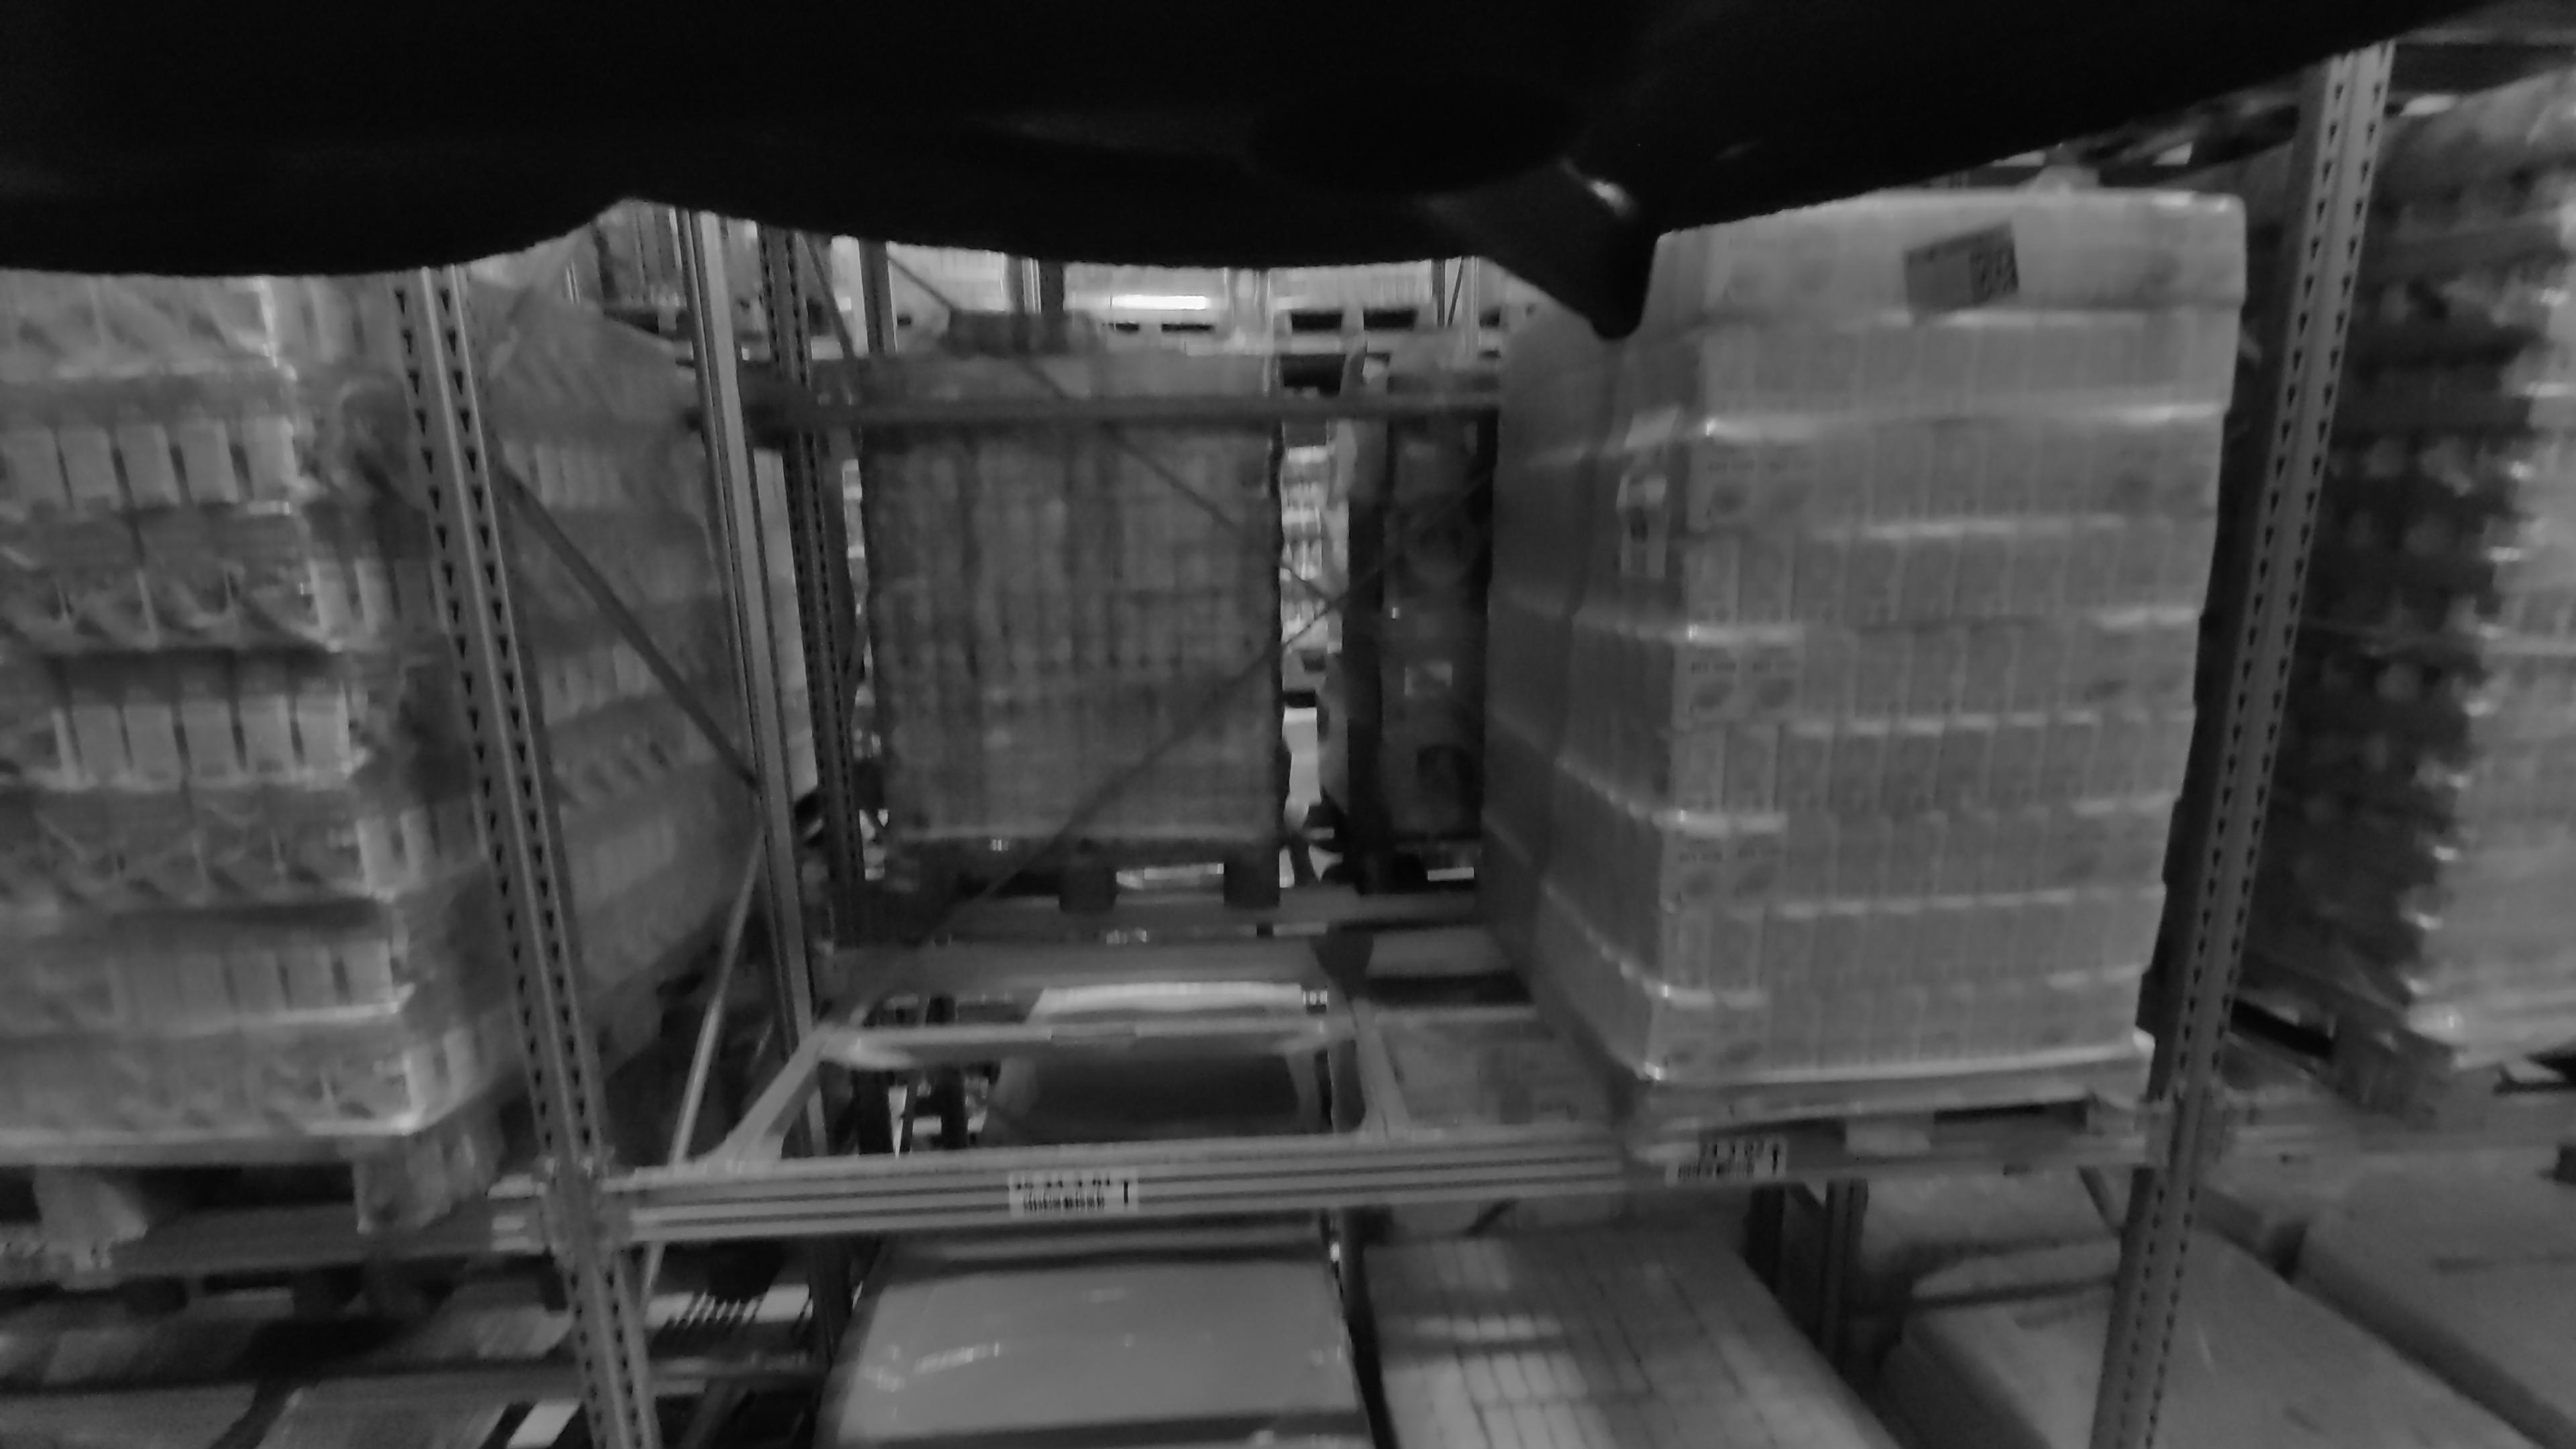empty-shelf: (727, 218, 1384, 1143)
